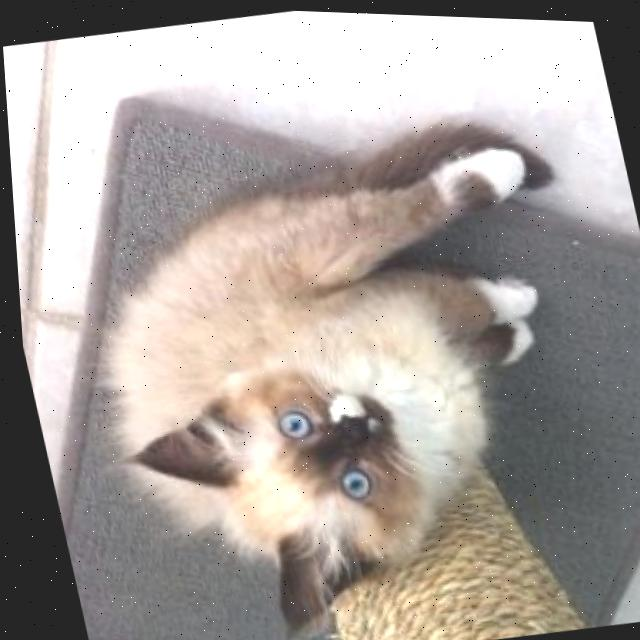Birman: (40, 82, 640, 640)
